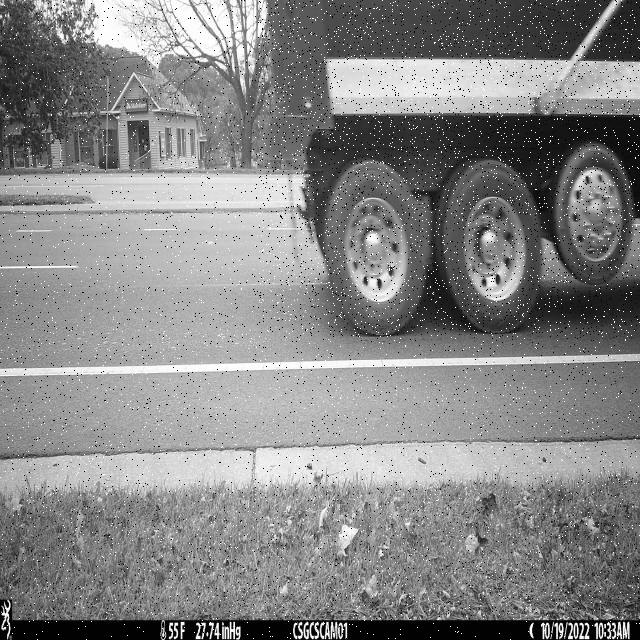Box Truck: (258, 0, 640, 337)
